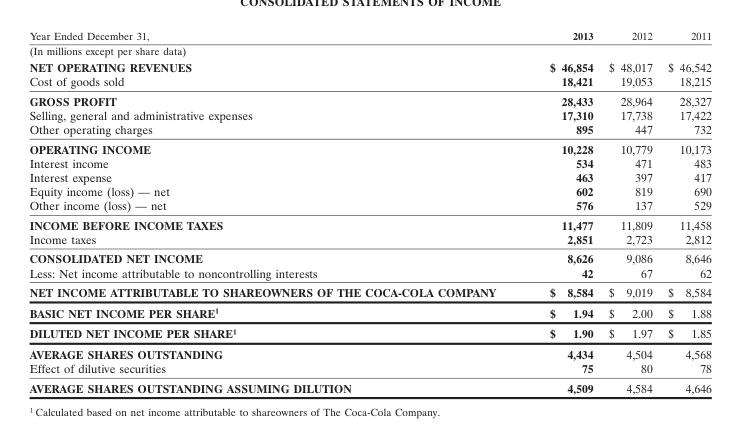table: (28, 28, 710, 394)
table column: (28, 28, 522, 394), (522, 28, 600, 394), (600, 28, 659, 394), (659, 28, 710, 394)
table column header: (28, 28, 710, 43)
table projected row header: (28, 43, 710, 58)
table row: (28, 322, 710, 343), (28, 282, 710, 302), (28, 302, 710, 322), (28, 343, 710, 361), (28, 74, 710, 91), (28, 138, 710, 155), (28, 198, 710, 215), (28, 231, 710, 248), (28, 248, 710, 265), (28, 265, 710, 282), (28, 377, 710, 394), (28, 58, 710, 74), (28, 91, 710, 107), (28, 122, 710, 138), (28, 215, 710, 231), (28, 361, 710, 377), (28, 28, 710, 43), (28, 43, 710, 58), (28, 107, 710, 122), (28, 169, 710, 184), (28, 155, 710, 169), (28, 184, 710, 198)
